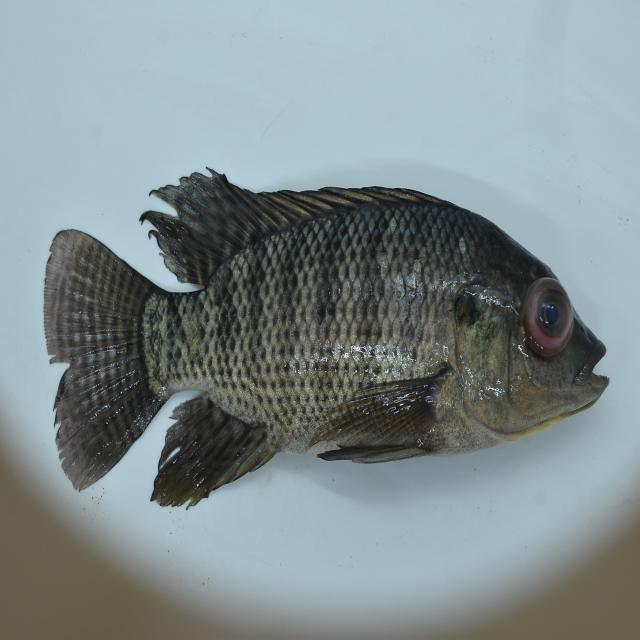streptococcus Disease: (42, 166, 610, 513)
